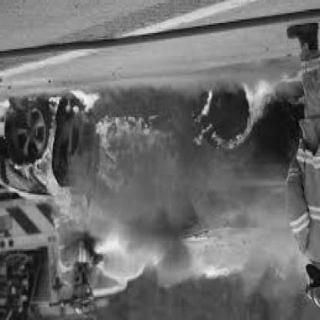Smoke: (102, 206, 264, 294)
